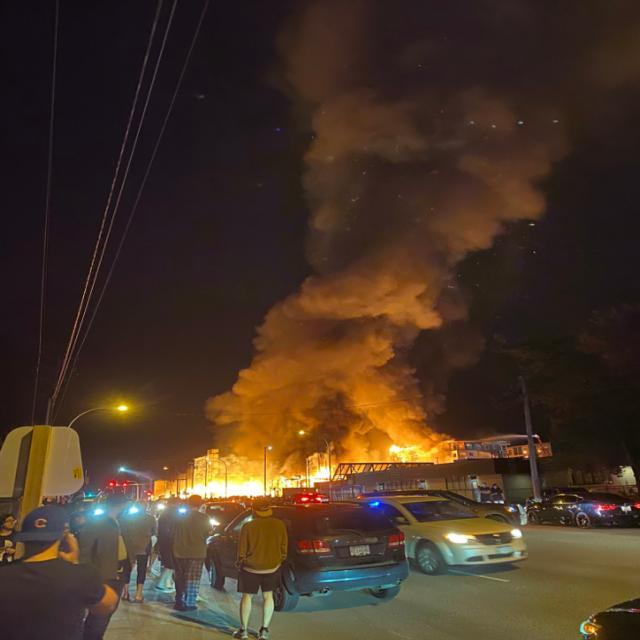Fire: (184, 475, 266, 500)
Smoke: (209, 0, 640, 448)
